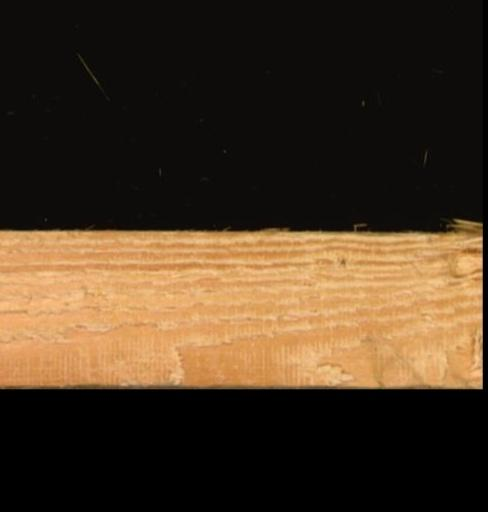small_knot: (333, 251, 354, 270)
